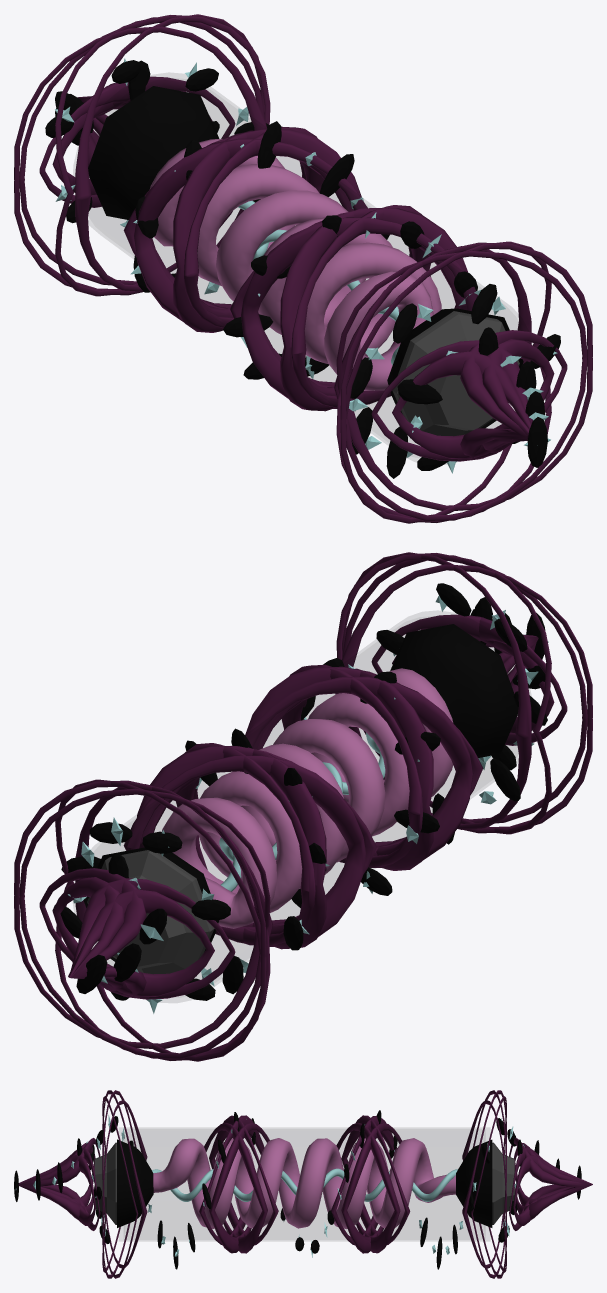
Rendered from st2_thorn stick.fbx.
3 renders of one model, top to bottom at view 1: azimuth 30°, elevation 25°; view 2: azimuth 150°, elevation 25°; view 3: azimuth 270°, elevation 25°, orthographic. The views are drawn at different scales.
Parts seen in each view (by area): view 1: 2curve_base, 1curve_base, 2curve_sphere, 1curve_sub1, 1stick_base, 1curve_sub2, 2curve_star, 1curve_sub3; view 2: 2curve_base, 1curve_base, 2curve_sphere, 1curve_sub1, 1stick_base, 1curve_sub2, 2curve_star, 1curve_sub3; view 3: 2curve_base, 1curve_base, 1stick_base, 1curve_sub1, 2curve_sphere, 1curve_sub2, 1curve_sub3, 2curve_star.
Part boxes in pixels (x1,y1,x2,y2): 2curve_base: (14, 14, 592, 523); 1curve_base: (149, 139, 441, 390); 2curve_sphere: (45, 60, 560, 478); 1curve_sub1: (88, 86, 523, 438); 1stick_base: (88, 78, 527, 458); 1curve_sub2: (392, 311, 519, 436); 2curve_star: (55, 58, 557, 473); 1curve_sub3: (238, 200, 399, 365); 2curve_base: (14, 552, 592, 1061); 1curve_base: (161, 668, 453, 928); 2curve_sphere: (52, 583, 547, 1000); 1curve_sub1: (83, 624, 518, 976); 1stick_base: (79, 616, 518, 997); 1curve_sub2: (87, 850, 214, 974); 2curve_star: (68, 596, 548, 1013); 1curve_sub3: (219, 732, 385, 891); 2curve_base: (18, 1090, 592, 1278); 1curve_base: (153, 1138, 455, 1229); 1stick_base: (123, 1129, 485, 1239); 1curve_sub1: (117, 1139, 492, 1227); 2curve_sphere: (14, 1110, 581, 1269); 1curve_sub2: (94, 1142, 514, 1224); 1curve_sub3: (152, 1168, 457, 1201); 2curve_star: (15, 1115, 524, 1257).
Bounding box in the file's own units: 361 × 366 × 1163.
